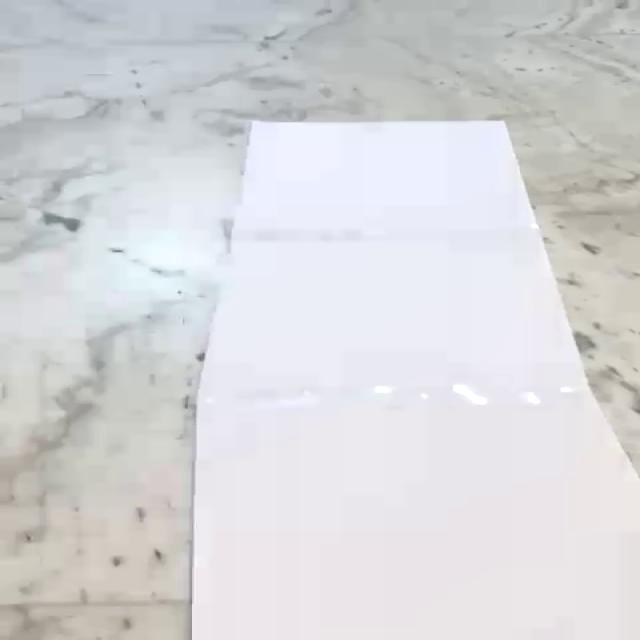road: (191, 120, 640, 640)
